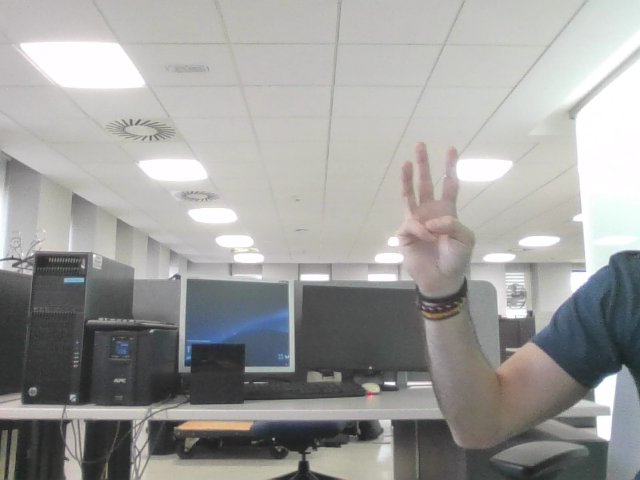3Dedos: (408, 152, 464, 259)
